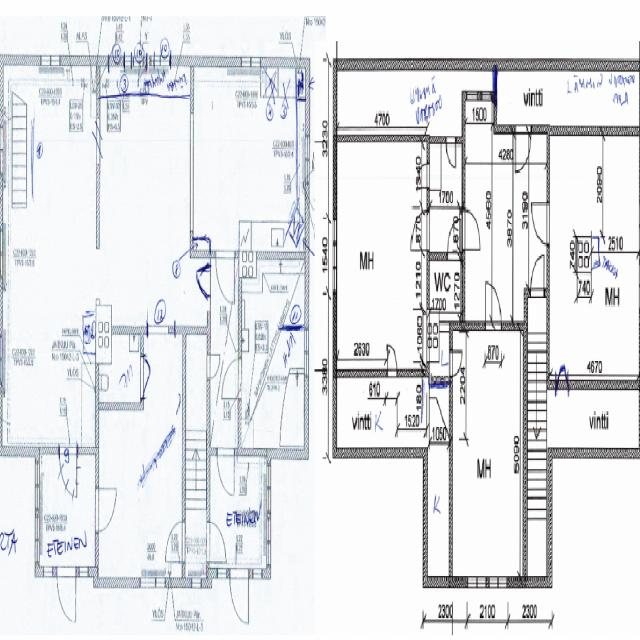door: (230, 569, 248, 625), (57, 567, 75, 623), (217, 251, 234, 302), (217, 448, 234, 498), (96, 488, 116, 530), (165, 523, 185, 562), (140, 356, 159, 396), (462, 210, 481, 249), (223, 359, 242, 397), (208, 523, 226, 563), (486, 283, 501, 331), (531, 204, 549, 243), (515, 124, 530, 170), (412, 213, 429, 249), (530, 257, 544, 298), (194, 264, 210, 297), (448, 222, 460, 260), (556, 352, 567, 390), (449, 350, 463, 375), (387, 344, 397, 376), (207, 353, 220, 377), (446, 136, 456, 166), (417, 164, 429, 187)
